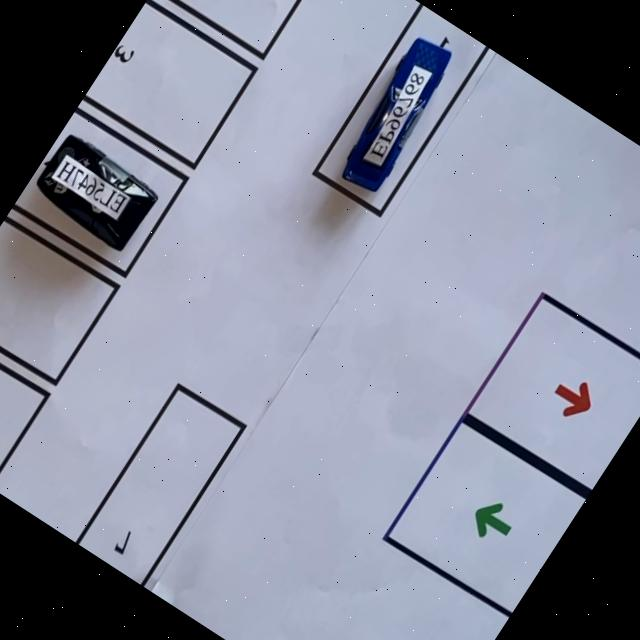car: (341, 38, 450, 192), (36, 135, 156, 251)
